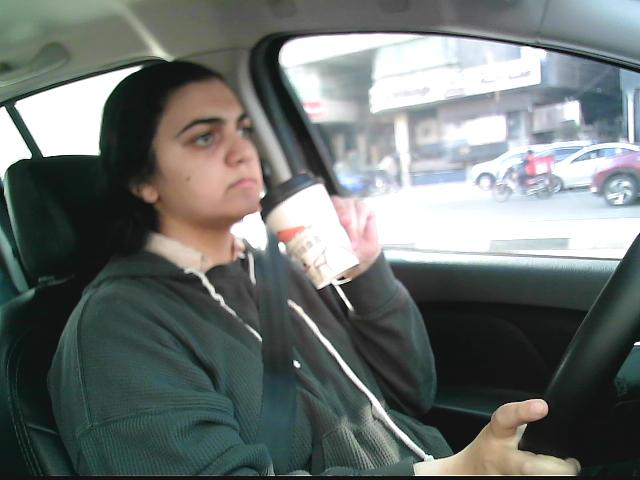Drinking: (254, 167, 360, 289)
